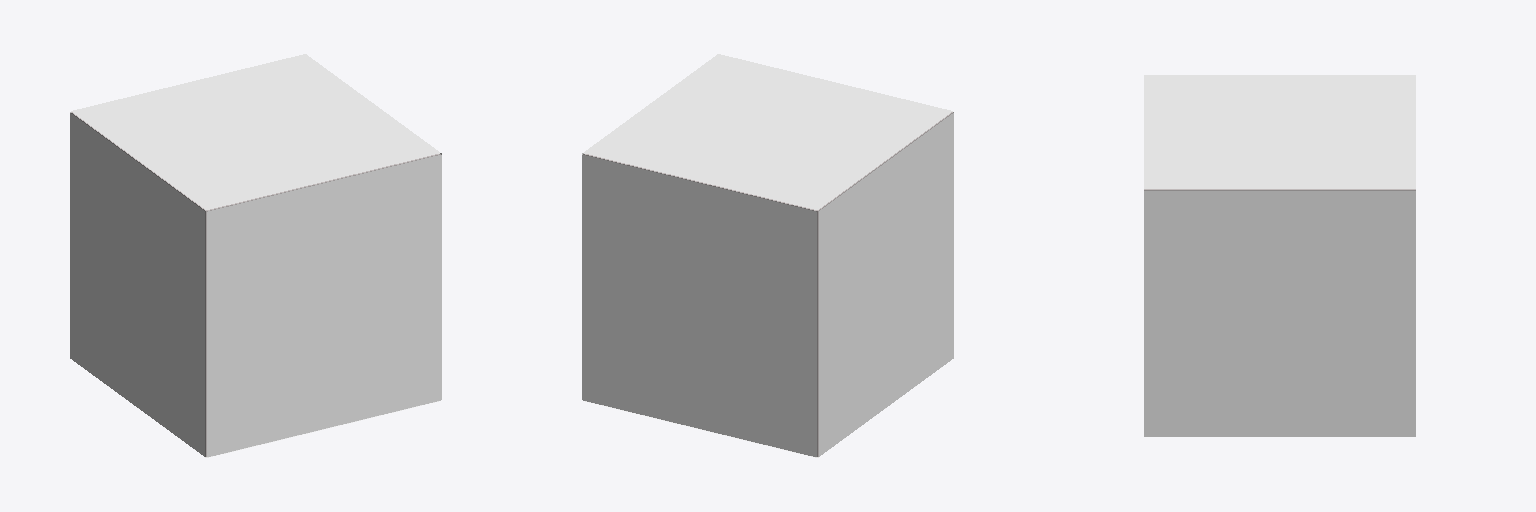
Rendered from pulverizer.obj.
3 renders of one model, left to right at view 1: azimuth 30°, elevation 25°; view 2: azimuth 150°, elevation 25°; view 3: azimuth 270°, elevation 25°, orthographic.
Visible parts, largest first — view 1: Pulverizer2, Pulverizer7, Pulverizer4, Pulverizer1; view 2: Pulverizer3, Pulverizer7, Pulverizer4, Pulverizer1; view 3: Pulverizer6, Pulverizer4, Pulverizer1.
Part boxes in pixels (x1,y1,x2,y2): Pulverizer2: (207, 155, 441, 456); Pulverizer7: (70, 113, 204, 456); Pulverizer4: (71, 54, 439, 209); Pulverizer1: (71, 112, 440, 456); Pulverizer3: (582, 155, 816, 456); Pulverizer7: (819, 113, 953, 456); Pulverizer4: (584, 54, 952, 209); Pulverizer1: (583, 112, 952, 456); Pulverizer6: (1144, 191, 1415, 436); Pulverizer4: (1144, 75, 1415, 188); Pulverizer1: (1144, 189, 1415, 190).
Bounding box in the file's own units: 5.04 × 5.04 × 5.04.